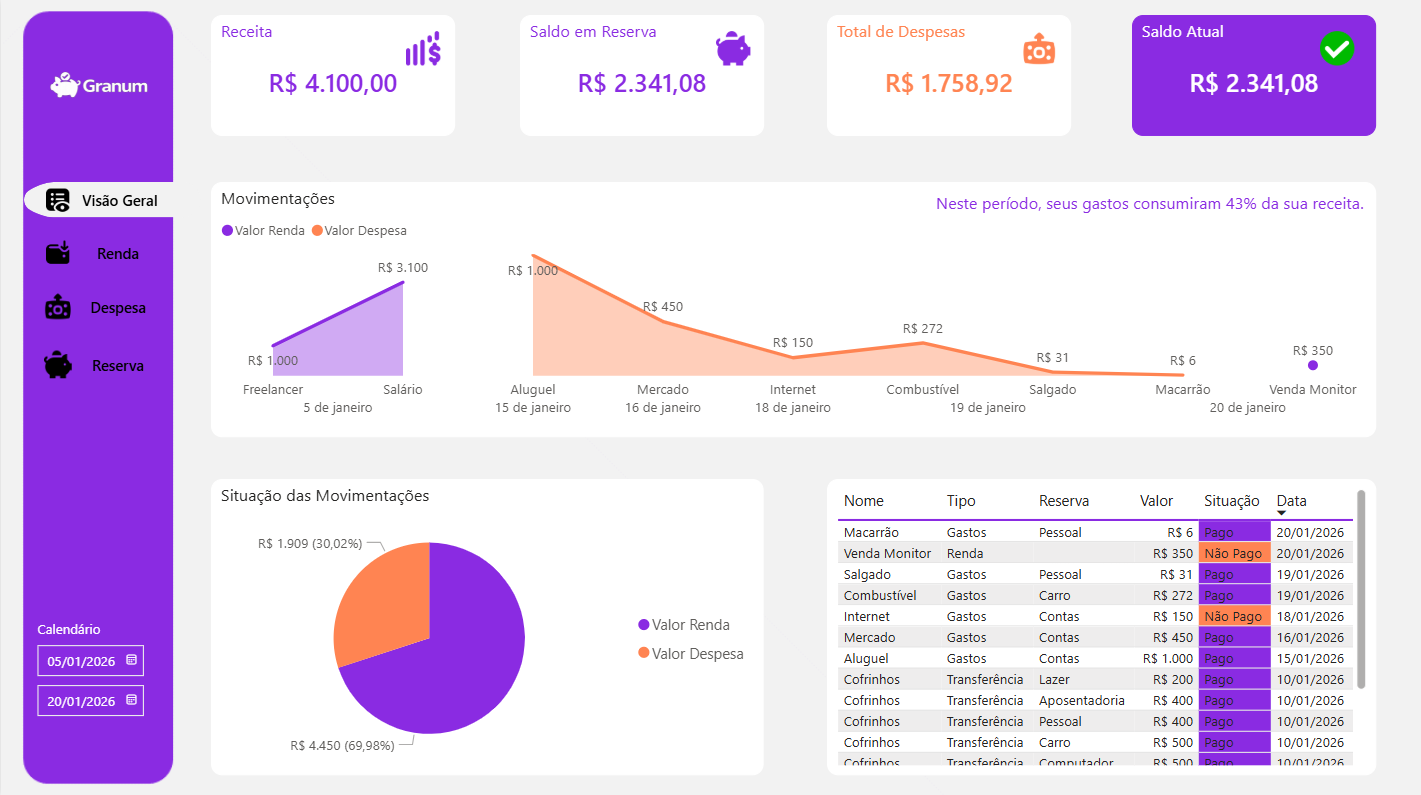

Layout of this report page (visuals, bound fields, positions):
{"tool":"powerbi","page":{"name":"Visão Geral","canvas":[1280,720],"ordinal":0},"visuals":[{"type":"card","title":"Receita","fields":{"Values":["Medidas.Total em Conta"]},"box":[188.9,15.1,219.9,109.1],"z":0,"group":"g5"},{"type":"shape","box":[14.6,165.4,165.3,32.1],"z":0,"group":"g1"},{"type":"shape","box":[12.7,214.4,165.8,31.9],"z":0,"group":"g2"},{"type":"shape","box":[12.7,263.1,165.8,31.9],"z":0,"group":"g3"},{"type":"shape","box":[12.7,315.5,165.8,31.9],"z":0,"group":"g4"},{"type":"slicer","fields":{"Values":["Controle Financeiro.Data "]},"box":[19.5,555.1,135.7,102.9],"z":0},{"type":"image","box":[0,0,173.8,165.8],"z":1000},{"type":"card","title":"Saldo em Reserva","fields":{"Values":["Medidas.Total em Reservas"]},"box":[467.3,15.1,219.9,109.1],"z":1000,"group":"g6"},{"type":"image","box":[41,157.6,21.3,48.8],"z":1000,"group":"g1"},{"type":"image","box":[41.1,204.6,21.3,48.8],"z":1000,"group":"g2"},{"type":"image","box":[39.2,251.5,24.8,52.3],"z":1000,"group":"g3"},{"type":"image","box":[39.2,303.9,24.8,52.3],"z":1000,"group":"g4"},{"type":"card","title":"Total de Despesas","fields":{"Values":["Medidas.Total de Gastos Pago"]},"box":[743.9,15.1,219.9,109.1],"z":2000,"group":"g7"},{"type":"group","id":"g1","title":"Grupo 1","box":[14.6,157.6,165.3,48.8],"z":2000},{"type":"card","title":"Saldo Atual","fields":{"Values":["Medidas.Saldo Total"]},"box":[1018.8,15.1,219.9,109.1],"z":3000,"group":"g8"},{"type":"group","id":"g2","title":"Grupo 1","box":[12.7,204.6,165.8,48.8],"z":3000},{"type":"image","box":[1188.2,19.5,31,50.5],"z":4000,"group":"g8"},{"type":"group","id":"g3","title":"Grupo 1","box":[12.7,251.5,165.8,52.3],"z":4000},{"type":"image","box":[919.5,19.5,31,50.5],"z":5000,"group":"g7"},{"type":"group","id":"g4","title":"Grupo 1","box":[12.7,303.9,165.8,52.3],"z":5000},{"type":"group","id":"g5","title":"Grupo 2","box":[188.9,15.1,219.9,109.1],"z":6000},{"type":"image","box":[643.8,19.5,31,50.5],"z":6000,"group":"g6"},{"type":"group","id":"g6","title":"Grupo 3","box":[467.3,15.1,219.9,109.1],"z":7000},{"type":"image","box":[364.5,19.5,31,50.5],"z":7000,"group":"g5"},{"type":"group","id":"g7","title":"Grupo 4","box":[743.9,15.1,219.9,109.1],"z":8000},{"type":"group","id":"g8","title":"Grupo 5","box":[1018.8,15.1,219.9,109.1],"z":9000},{"type":"lineChart","title":"Movimentações","fields":{"Category":["Controle Financeiro.Data ","Controle Financeiro.Nome"],"Y":["Medidas.Receita Total Geral"],"Y2":["Medidas.Total de Gastos Geral"]},"box":[188.9,165.8,1049.9,229.7],"z":10000},{"type":"pieChart","title":"Situação das Movimentações","fields":{"Y":["Medidas.Receita Total Geral","Medidas.Total de Gastos Geral"]},"box":[188.9,433.6,498.3,266.9],"z":11000},{"type":"tableEx","fields":{"Values":["Controle Financeiro.Nome","Controle Financeiro.Tipo","Controle Financeiro.Reserva","Controle Financeiro.Valor","Controle Financeiro.Situação","Controle Financeiro.Data .Variation.Hierarquia de datas.Dia"]},"box":[743.9,433.6,494.8,266.9],"z":12000},{"type":"card","fields":{"Values":["Medidas.Resumo Financeiro"]},"box":[831.7,166.7,407,39.9],"z":12001}]}

Visuals, with their boxes in screenshot pixels (x1, y1, x2, y2), scaled from the page's 1280x720 canvas onto the 1421x795 screenshot:
"Receita" card: (210,17,454,137)
shape: (16,183,200,218)
shape: (14,237,198,272)
shape: (14,291,198,326)
shape: (14,348,198,384)
slicer - Controle Financeiro.Data : (22,613,172,727)
image: (0,0,193,183)
"Saldo em Reserva" card: (519,17,763,137)
image: (46,174,69,228)
image: (46,226,69,280)
image: (44,278,71,335)
image: (44,336,71,393)
"Total de Despesas" card: (826,17,1070,137)
"Grupo 1" group: (16,174,200,228)
"Saldo Atual" card: (1131,17,1375,137)
"Grupo 1" group: (14,226,198,280)
image: (1319,22,1354,77)
"Grupo 1" group: (14,278,198,335)
image: (1021,22,1055,77)
"Grupo 1" group: (14,336,198,393)
"Grupo 2" group: (210,17,454,137)
image: (715,22,749,77)
"Grupo 3" group: (519,17,763,137)
image: (405,22,439,77)
"Grupo 4" group: (826,17,1070,137)
"Grupo 5" group: (1131,17,1375,137)
"Movimentações" lineChart: (210,183,1375,437)
"Situação das Movimentações" pieChart: (210,479,763,773)
tableEx - Controle Financeiro.Nome x Controle Financeiro.Tipo: (826,479,1375,773)
card - Medidas.Resumo Financeiro: (923,184,1375,228)
